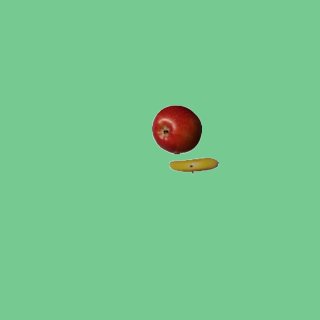Apple Braeburn: (151, 104, 201, 154)
Banana: (168, 140, 218, 190)
